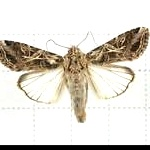Spodoptera litura: (1, 26, 149, 123)
